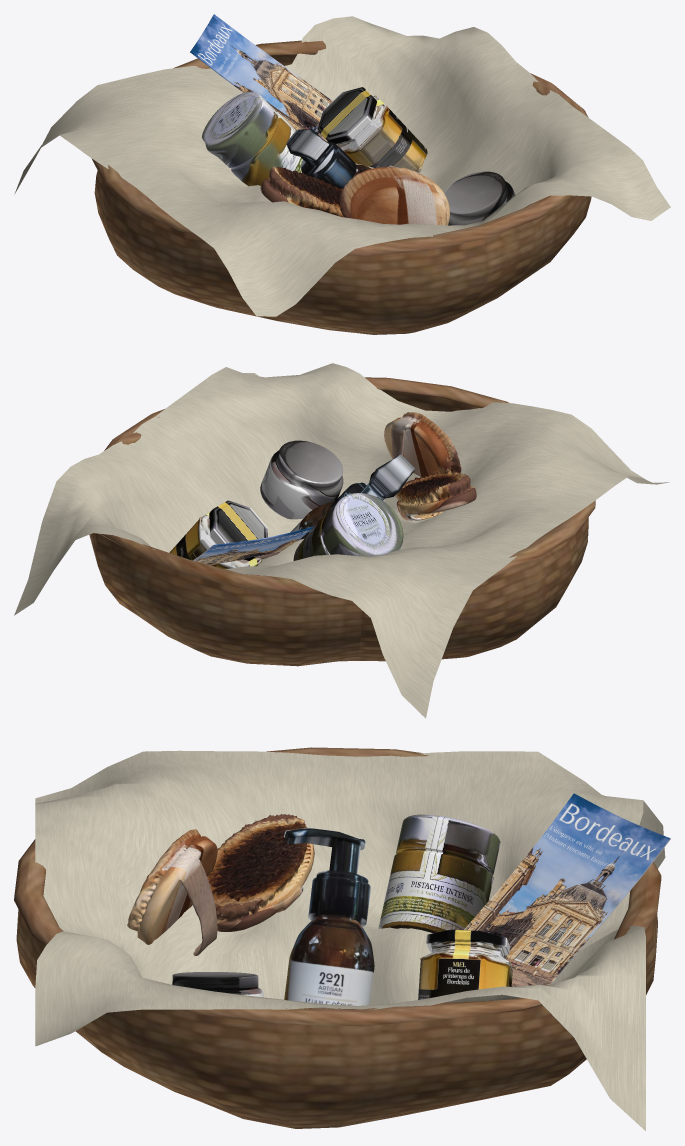
Rendered from PanierBienvenue.glb.
3 renders of one model, top to bottom at view 1: azimuth 30°, elevation 25°; view 2: azimuth 150°, elevation 25°; view 3: azimuth 270°, elevation 25°, orthographic. The views are drawn at different scales.
Visible parts, largest first — view 1: object_0_object_0_0, tmpzge4n8o6.ply, Plane.001, Cylinder, Cylinder.001, Cylinder.002, Plane; view 2: object_0_object_0_0, tmpzge4n8o6.ply, Cylinder, Cylinder.002, Cylinder.001, Plane, Plane.001; view 3: object_0_object_0_0, Plane.001, tmpzge4n8o6.ply, Plane, Cylinder, Cylinder.001, Cylinder.002.
Part boxes in pixels (box(x1,y1,x2,y2)): object_0_object_0_0: box(14, 16, 670, 334); tmpzge4n8o6.ply: box(260, 165, 449, 238); Plane.001: box(190, 14, 356, 163); Cylinder: box(202, 91, 302, 186); Cylinder.001: box(318, 87, 427, 172); Cylinder.002: box(444, 171, 515, 225); Plane: box(287, 129, 370, 188); object_0_object_0_0: box(14, 363, 669, 718); tmpzge4n8o6.ply: box(384, 412, 476, 520); Cylinder: box(293, 493, 403, 560); Cylinder.002: box(260, 440, 343, 519); Cylinder.001: box(169, 500, 267, 568); Plane: box(290, 454, 414, 541); Plane.001: box(193, 527, 313, 565); object_0_object_0_0: box(14, 747, 665, 1130); Plane.001: box(464, 793, 670, 986); tmpzge4n8o6.ply: box(127, 814, 314, 955); Plane: box(284, 827, 374, 1005); Cylinder: box(378, 814, 500, 932); Cylinder.001: box(418, 929, 512, 999); Cylinder.002: box(172, 972, 263, 997).
Bounding box in the file's own units: 0.7964 × 0.3077 × 0.8081.
Materials: 8 (8 with a texture image).
